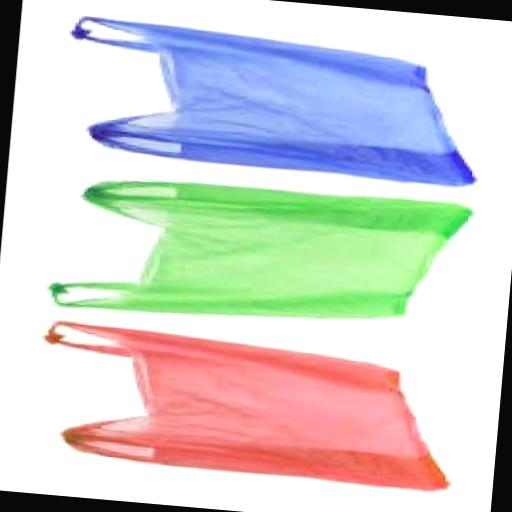plastic: (31, 316, 455, 492), (58, 13, 484, 187), (45, 166, 466, 339)
